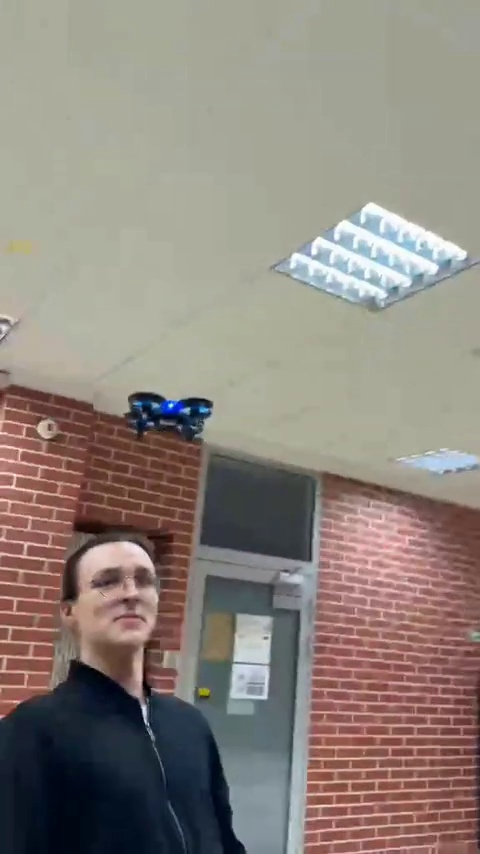drone: (120, 390, 215, 442)
no vest: (0, 527, 231, 851)
